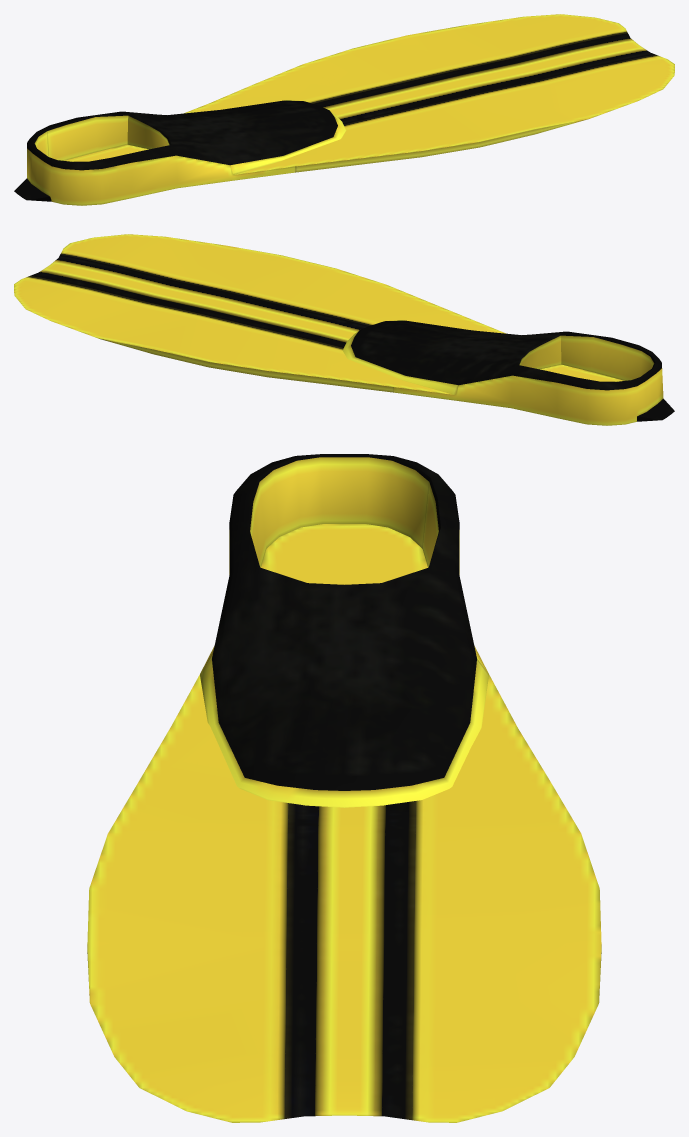
The model's file is PinnadaSub.FBX.
3 views of the same model, one above another, from view 1: azimuth 30°, elevation 25°; view 2: azimuth 150°, elevation 25°; view 3: azimuth 270°, elevation 25° (orthographic). The views are drawn at different scales.
Visible parts, largest first — view 1: 1233; view 2: 1233; view 3: 1233.
Part boxes in pixels (x1,y1,x2,y2): 1233: [14, 14, 674, 205]; 1233: [14, 234, 674, 425]; 1233: [87, 454, 601, 1122].
Bounding box in the file's own units: 150 × 9.21 × 53.26.
